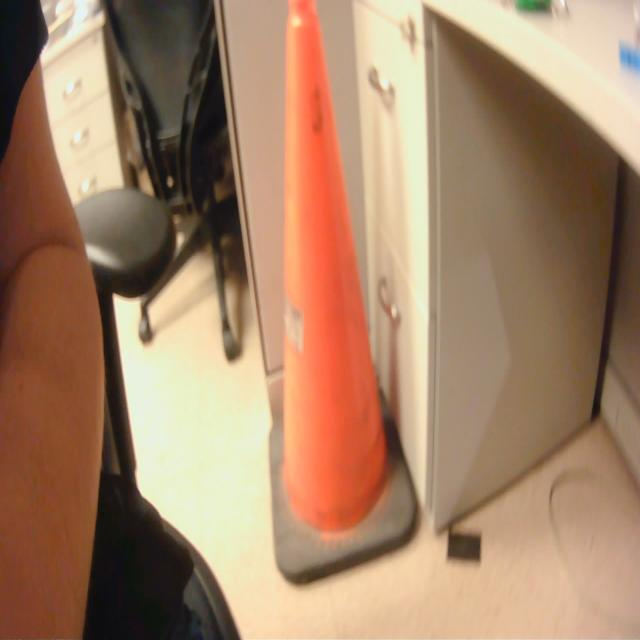traffic cone: (263, 1, 427, 595)
